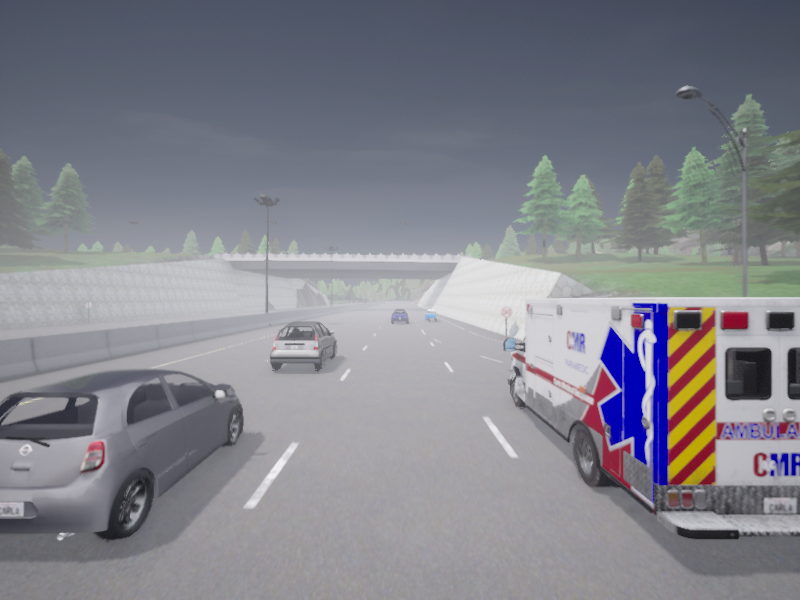vehicle: (504, 297, 799, 538), (0, 368, 242, 540), (270, 322, 336, 369), (392, 309, 407, 322), (424, 309, 436, 321)
